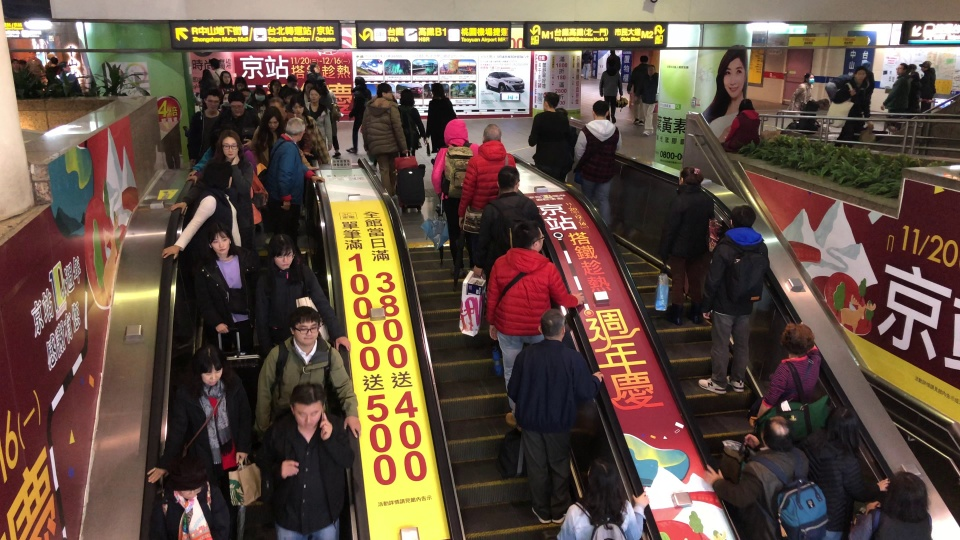person_head: (881, 471, 929, 523), (166, 454, 208, 500), (823, 405, 861, 451), (188, 344, 227, 386), (290, 383, 324, 429), (585, 456, 621, 499), (758, 414, 794, 453), (288, 305, 320, 346), (779, 322, 815, 355), (510, 220, 544, 254), (266, 233, 296, 270), (202, 158, 233, 191), (537, 309, 566, 342), (205, 221, 232, 255), (494, 165, 522, 195), (214, 129, 242, 159), (443, 118, 470, 147), (729, 205, 756, 230), (259, 105, 284, 132), (677, 166, 704, 189), (284, 116, 306, 142), (227, 90, 246, 118), (215, 119, 238, 141), (202, 87, 222, 112), (481, 123, 502, 144), (288, 93, 306, 115), (542, 92, 560, 113), (376, 82, 394, 101), (592, 100, 609, 120), (269, 96, 285, 117), (399, 88, 415, 107), (736, 97, 754, 113), (430, 80, 445, 98), (251, 87, 266, 103), (301, 80, 316, 95), (218, 70, 232, 86), (308, 87, 321, 104), (268, 79, 282, 94), (233, 75, 246, 90), (854, 66, 866, 82), (816, 97, 829, 110), (285, 74, 297, 88), (919, 60, 932, 72), (896, 62, 908, 74), (308, 62, 320, 74), (208, 57, 220, 69), (802, 73, 815, 84), (645, 64, 656, 77), (240, 87, 250, 101), (59, 61, 70, 73), (353, 76, 365, 87), (200, 68, 212, 79), (316, 79, 326, 91), (221, 91, 230, 104), (606, 58, 617, 68), (907, 63, 917, 73), (11, 58, 20, 69), (19, 59, 27, 71), (49, 57, 59, 66), (861, 59, 870, 69), (639, 54, 648, 64), (28, 50, 37, 59), (609, 49, 616, 55)
person_vbox: (505, 308, 605, 525), (484, 220, 585, 432), (254, 383, 355, 540), (145, 343, 253, 485), (253, 305, 361, 439), (696, 205, 770, 395), (168, 129, 264, 275), (703, 414, 810, 540), (797, 404, 890, 540), (253, 234, 351, 355), (160, 158, 250, 260), (658, 166, 715, 326), (457, 123, 518, 272), (192, 220, 260, 352), (472, 165, 545, 280), (554, 455, 651, 540), (430, 118, 481, 279), (146, 454, 232, 540), (262, 116, 325, 233), (574, 100, 623, 226), (757, 322, 821, 418), (847, 471, 933, 540), (361, 82, 408, 197), (528, 92, 573, 183), (186, 86, 228, 169), (286, 93, 331, 164), (831, 65, 869, 149), (247, 96, 305, 151), (187, 119, 239, 175), (424, 80, 457, 154), (343, 75, 372, 155), (248, 105, 284, 169), (880, 61, 912, 132), (214, 90, 259, 140), (720, 97, 760, 153), (397, 88, 428, 156), (316, 79, 342, 159), (625, 54, 652, 126), (305, 87, 332, 151), (786, 96, 830, 135), (599, 58, 623, 124), (784, 73, 815, 122), (639, 63, 658, 137), (919, 59, 936, 116), (860, 59, 875, 119), (54, 61, 82, 90), (907, 63, 920, 117), (197, 68, 217, 98), (27, 49, 45, 80), (278, 74, 302, 96), (208, 57, 226, 86), (214, 69, 233, 92), (45, 57, 60, 85), (11, 58, 26, 84), (605, 48, 621, 72), (581, 50, 593, 80), (306, 61, 324, 80)
